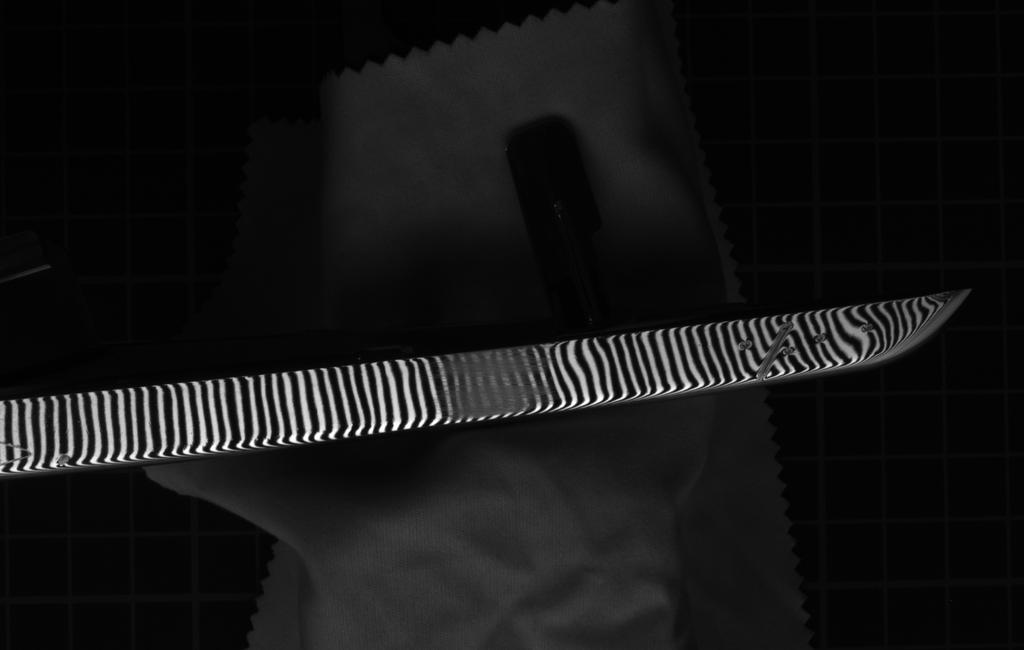Pierced: (734, 334, 756, 357), (808, 328, 832, 349), (856, 318, 879, 339), (778, 342, 800, 363)
Pitting: (433, 340, 560, 417)
Scratch: (751, 317, 798, 385)
